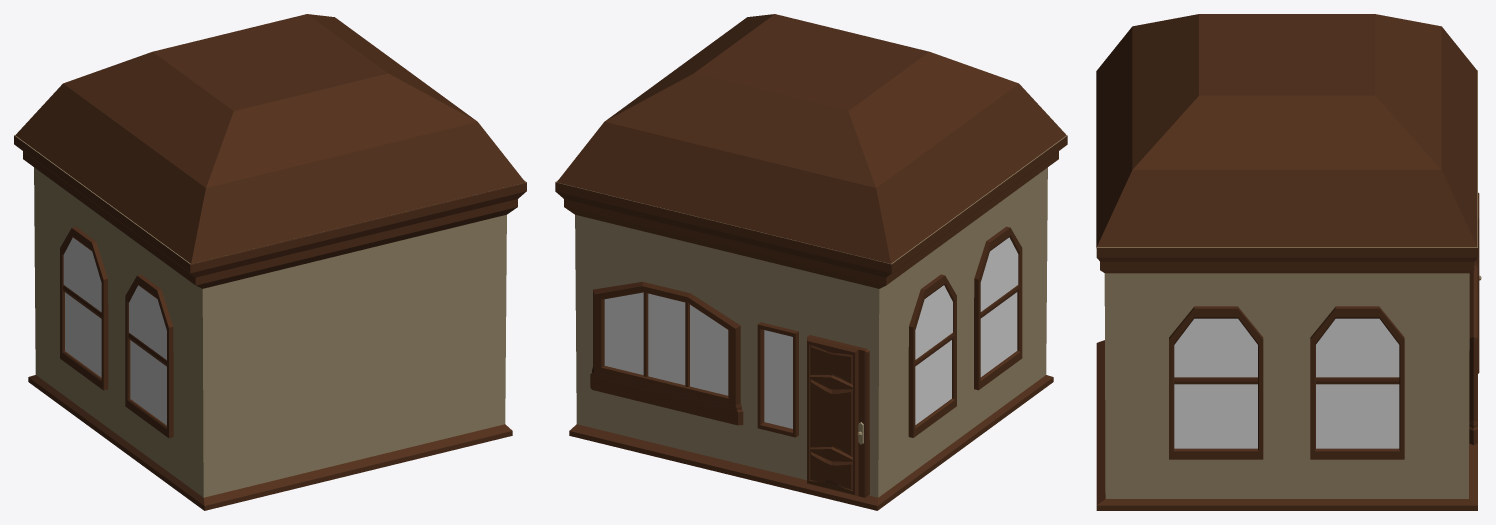
File: SmallbuildingA_model.fbx
The picture shows the model from 3 angles, left to right: view 1: azimuth 30°, elevation 25°; view 2: azimuth 150°, elevation 25°; view 3: azimuth 270°, elevation 25°; orthographic projection. The views are drawn at different scales.
Visible parts, largest first — view 1: SmallbuildingA_model; view 2: SmallbuildingA_model; view 3: SmallbuildingA_model.
Boxes of the visible parts, <box> form: SmallbuildingA_model: <box>14,14,526,510</box>; SmallbuildingA_model: <box>555,14,1067,510</box>; SmallbuildingA_model: <box>1096,14,1481,510</box>.
Bounding box in the file's own units: 568 × 520 × 558.
